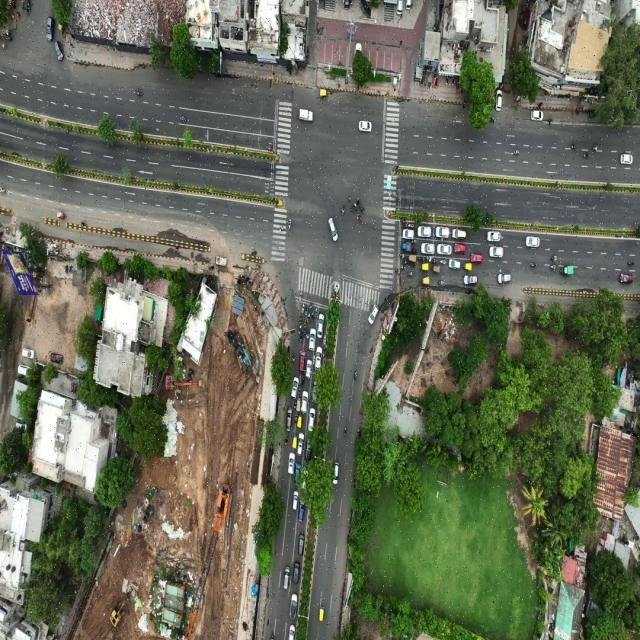3W: (20, 0, 34, 18), (406, 249, 419, 267), (316, 602, 326, 625), (295, 390, 302, 415), (460, 261, 474, 273), (420, 275, 432, 289), (296, 410, 304, 431), (291, 432, 299, 452), (418, 262, 431, 274), (430, 263, 441, 277), (318, 87, 329, 100)
Cars: (326, 215, 339, 245), (462, 270, 482, 289), (299, 383, 310, 416), (297, 106, 316, 125), (44, 14, 56, 44), (289, 373, 301, 403), (433, 223, 451, 242), (295, 429, 306, 459), (52, 38, 65, 63), (435, 241, 453, 259), (366, 303, 379, 327), (331, 458, 341, 489), (289, 591, 299, 622), (286, 449, 297, 477), (618, 150, 635, 168), (419, 241, 437, 258), (529, 107, 545, 126), (469, 249, 485, 268), (282, 562, 292, 592), (284, 405, 294, 435), (298, 346, 308, 376), (300, 384, 309, 417), (293, 460, 303, 489), (308, 325, 318, 354), (488, 245, 505, 262), (357, 117, 373, 135), (304, 430, 313, 462), (304, 355, 314, 383), (20, 346, 37, 362), (17, 362, 33, 379), (618, 271, 635, 287), (452, 241, 468, 258), (400, 226, 417, 242), (297, 495, 306, 525), (292, 558, 301, 587), (315, 344, 324, 373), (485, 229, 501, 245), (450, 227, 467, 242), (50, 351, 64, 369), (316, 311, 325, 339), (297, 531, 306, 558), (311, 378, 320, 405), (14, 418, 29, 434), (524, 235, 540, 250), (496, 272, 512, 287), (494, 87, 503, 113), (292, 487, 301, 513), (307, 407, 316, 433), (353, 41, 364, 62), (521, 8, 531, 31), (417, 225, 432, 240), (301, 467, 310, 492), (448, 258, 462, 274), (287, 623, 299, 640), (394, 0, 404, 17), (340, 0, 352, 11), (405, 0, 413, 12)
LCV: (398, 238, 414, 255), (559, 265, 575, 280), (55, 208, 68, 223)
M2W: (424, 250, 438, 266), (544, 114, 555, 131), (589, 140, 600, 156), (569, 138, 579, 155), (527, 259, 539, 273), (511, 146, 521, 162), (4, 32, 16, 45), (486, 114, 497, 128), (549, 252, 560, 266), (351, 367, 360, 384), (355, 426, 363, 444), (289, 350, 297, 368), (134, 86, 145, 99), (206, 260, 217, 273), (548, 261, 558, 275), (291, 395, 299, 412), (254, 258, 263, 273), (0, 181, 7, 200), (310, 350, 317, 369), (297, 327, 304, 346), (264, 143, 275, 155), (178, 112, 188, 125), (249, 245, 259, 258), (581, 150, 591, 163), (626, 258, 636, 271), (408, 257, 417, 271), (342, 422, 349, 440), (321, 330, 328, 348), (304, 328, 311, 346), (4, 27, 15, 38), (439, 256, 449, 268), (297, 288, 304, 305), (276, 223, 285, 236), (310, 349, 316, 368), (287, 217, 294, 233), (359, 201, 366, 217), (321, 345, 328, 361), (297, 310, 304, 326), (297, 321, 304, 337), (78, 218, 88, 229), (398, 258, 409, 268), (355, 212, 364, 224), (394, 266, 403, 278), (399, 263, 408, 275), (416, 254, 425, 266), (284, 432, 290, 450), (300, 371, 306, 389), (300, 297, 306, 315), (411, 245, 419, 258), (355, 192, 361, 209), (313, 304, 319, 321), (436, 278, 446, 288), (188, 365, 197, 376), (445, 74, 451, 90), (400, 218, 408, 230), (294, 409, 300, 425), (302, 325, 308, 341), (434, 71, 439, 90), (297, 333, 304, 346), (341, 203, 347, 218), (187, 371, 196, 381), (450, 75, 456, 90), (399, 216, 409, 225), (406, 220, 415, 230), (269, 630, 278, 640), (308, 300, 314, 314), (406, 270, 415, 279), (410, 236, 419, 245), (398, 252, 407, 261), (186, 376, 194, 386), (304, 303, 309, 319), (310, 308, 315, 323), (306, 310, 311, 325)
Truck: (214, 250, 230, 270)
